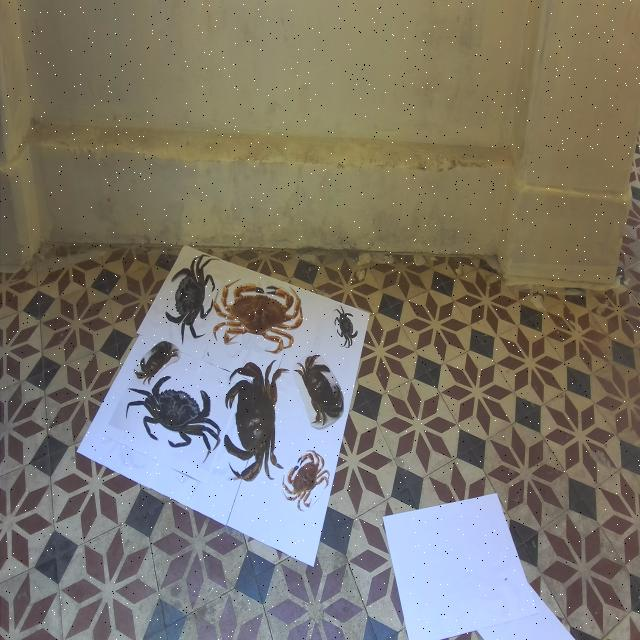European_Green_Crab: (122, 355, 227, 471), (162, 239, 220, 357), (332, 298, 360, 354)
